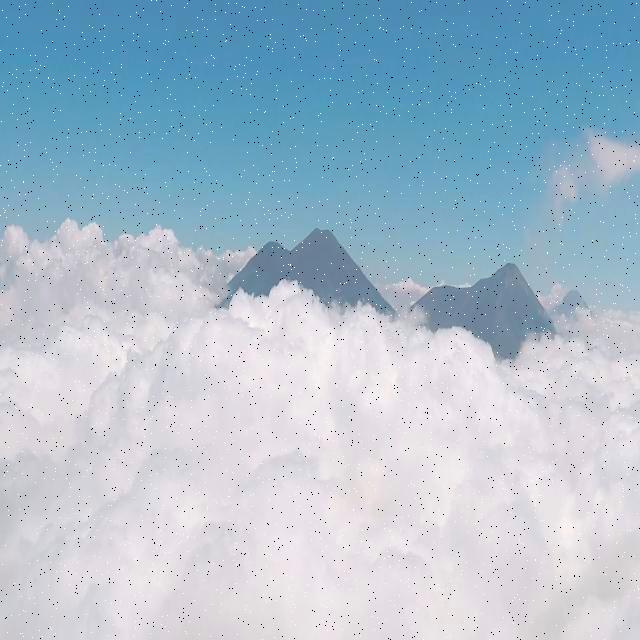Summit: (472, 260, 542, 302)
